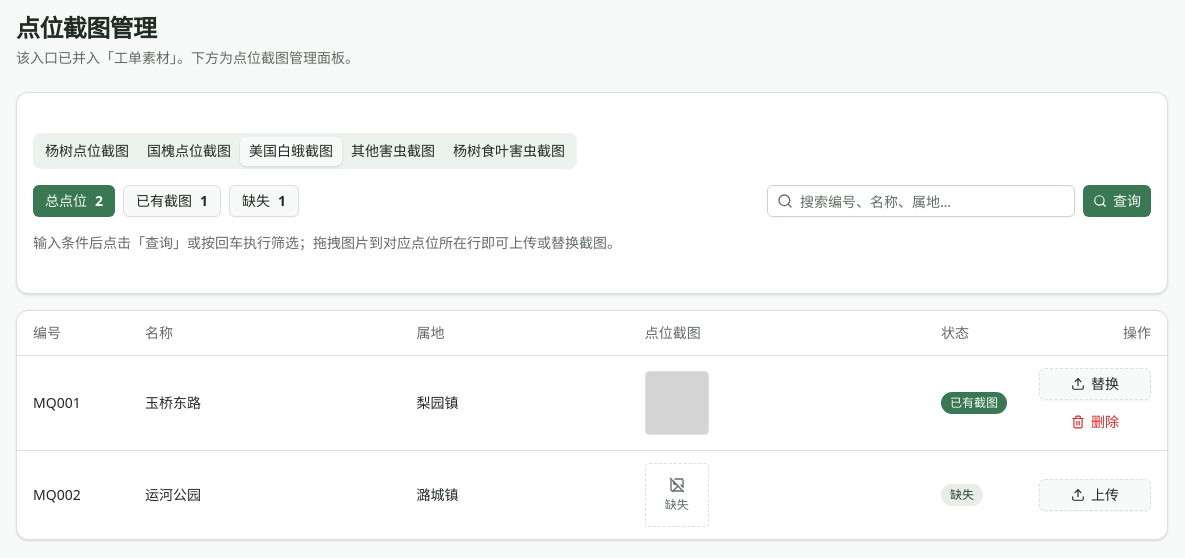
Test: PointScreenshotView › 输入搜索条件后需点击查询按钮才筛选列表
Type "MQ002" into the search field with test id "point-screenshot-search".
click(921, 201); type("MQ002")  # box [767,185,1075,217]
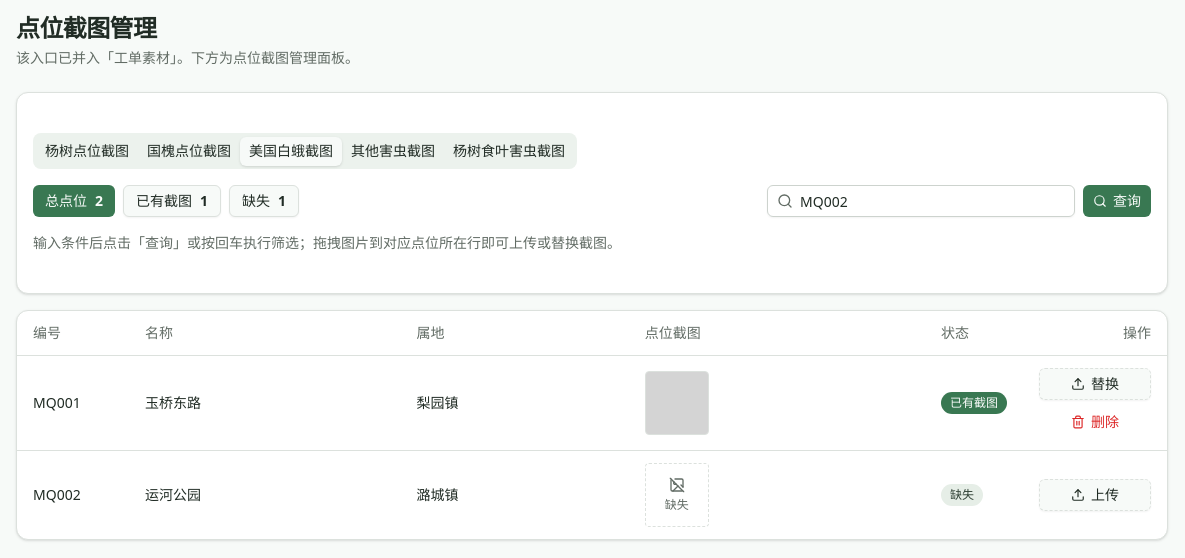
Click the button with test id "point-screenshot-search-submit".
click(1117, 201)  # box [1083,185,1151,217]
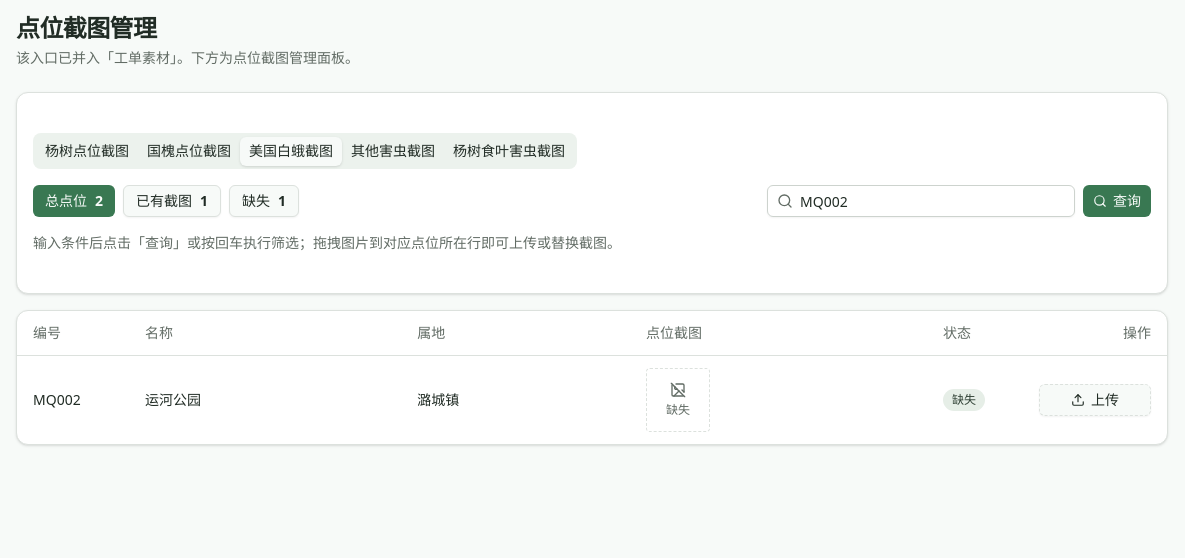
Check: the text "MQ002" is shown, box [17,356,129,444]
Check: the text "玉桥东路" is gone
